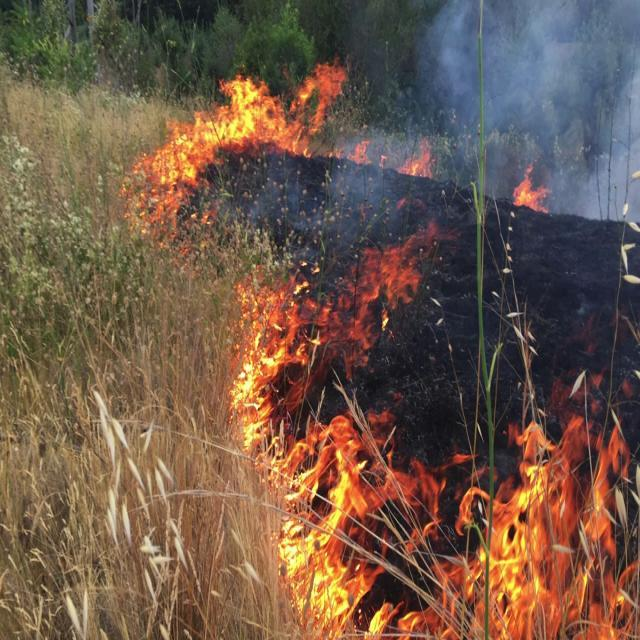Fire: (222, 402, 638, 638), (221, 232, 429, 630), (129, 57, 351, 219), (510, 166, 550, 212)
Smoke: (482, 0, 640, 220)
